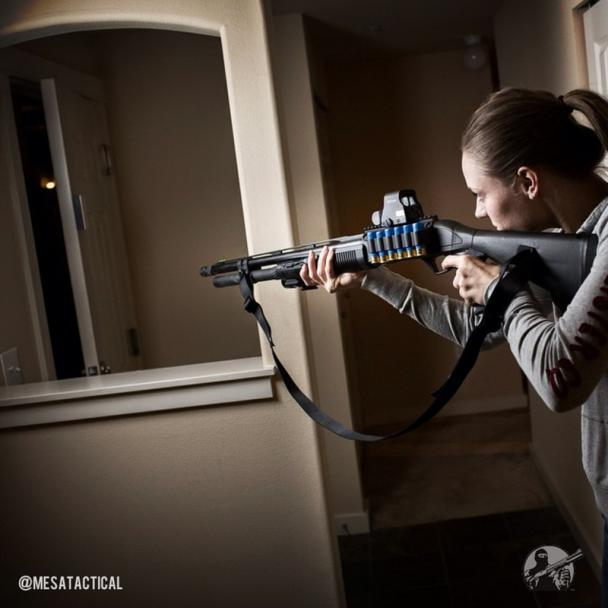Gun: (195, 184, 600, 362)
